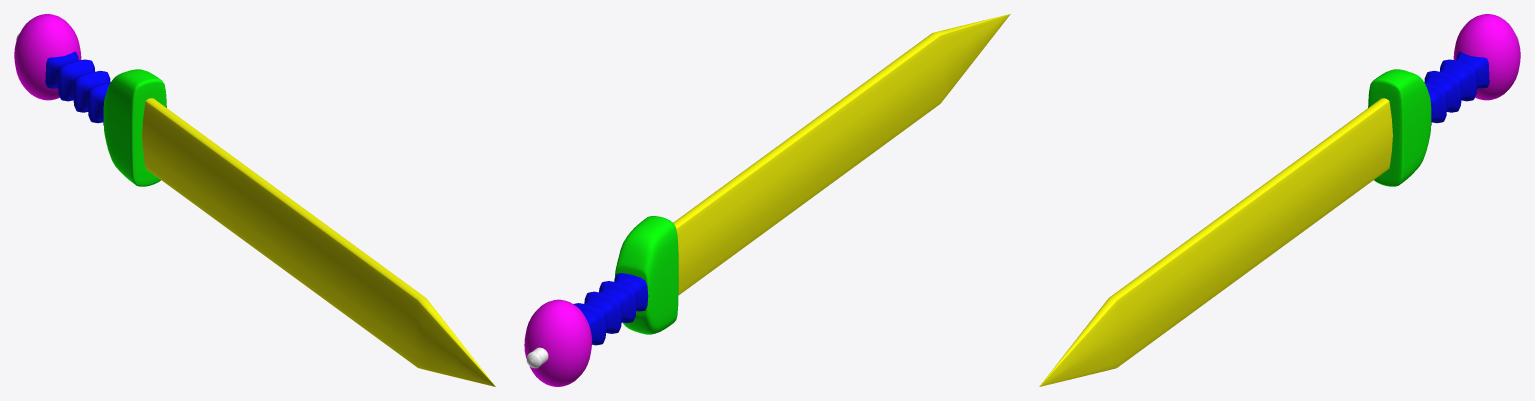
3 renders of one model, left to right at view 1: azimuth 30°, elevation 25°; view 2: azimuth 150°, elevation 25°; view 3: azimuth 330°, elevation 25°, orthographic.
Visible parts, largest first — view 1: Lamina, Cabo, pomao, Empunhadura; view 2: Lamina, Cabo, pomao, Empunhadura; view 3: Lamina, Cabo, pomao, Empunhadura.
Boxes of the visible parts, box(x1,y1,x2,y2) form: Lamina: box(142, 98, 495, 386); Cabo: box(103, 69, 166, 186); pomao: box(14, 14, 81, 100); Empunhadura: box(45, 51, 110, 125); Lamina: box(673, 14, 1010, 295); Cabo: box(615, 216, 678, 334); pomao: box(524, 299, 591, 386); Empunhadura: box(573, 273, 648, 345); Lamina: box(1039, 98, 1392, 386); Cabo: box(1368, 69, 1431, 186); pomao: box(1453, 14, 1520, 100); Empunhadura: box(1424, 51, 1489, 125).
Size of the model in its own units: 0.1403 by 0.245 by 2.
